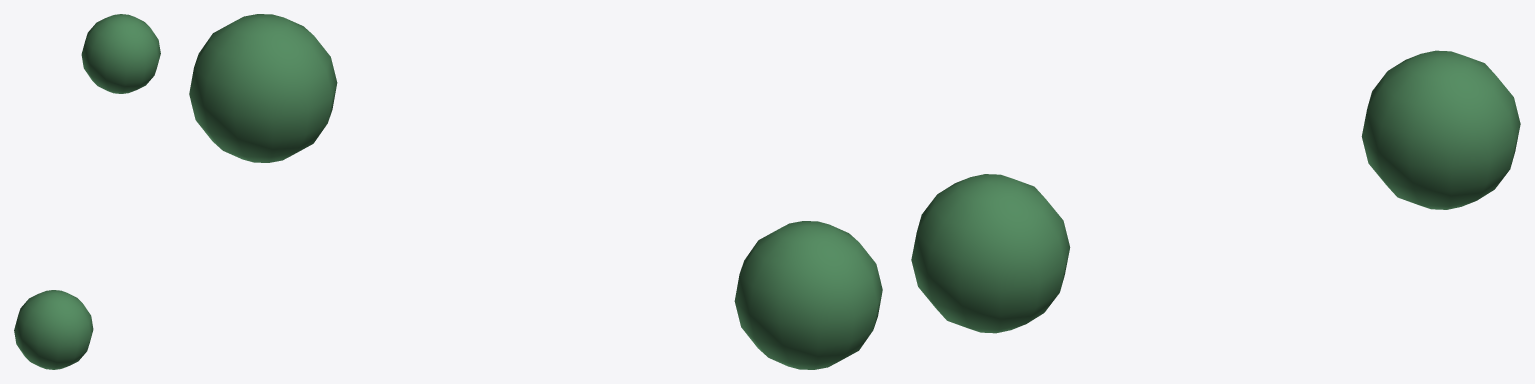
3 renders of one model, left to right at view 1: azimuth 30°, elevation 25°; view 2: azimuth 150°, elevation 25°; view 3: azimuth 270°, elevation 25°, orthographic. The views are drawn at different scales.
Visible parts, largest first — view 1: 右侧腘浅淋巴结; view 2: 右侧腘浅淋巴结; view 3: 右侧腘浅淋巴结.
Part boxes in pixels (x1,y1,x2,y2): 右侧腘浅淋巴结: [14, 14, 160, 369]; 右侧腘浅淋巴结: [189, 14, 882, 369]; 右侧腘浅淋巴结: [911, 50, 1520, 333].
Size of the model in its own units: 0.0137 by 0.0117 by 0.0146.
